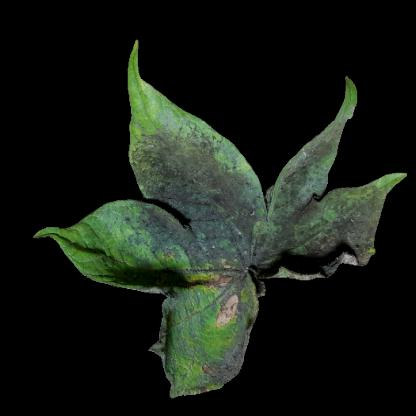curl_stage1: (131, 85, 161, 125), (200, 326, 232, 356)
sooty: (145, 146, 260, 265), (276, 193, 380, 258), (203, 258, 257, 319), (302, 139, 340, 169), (197, 356, 239, 383), (282, 166, 316, 194)
